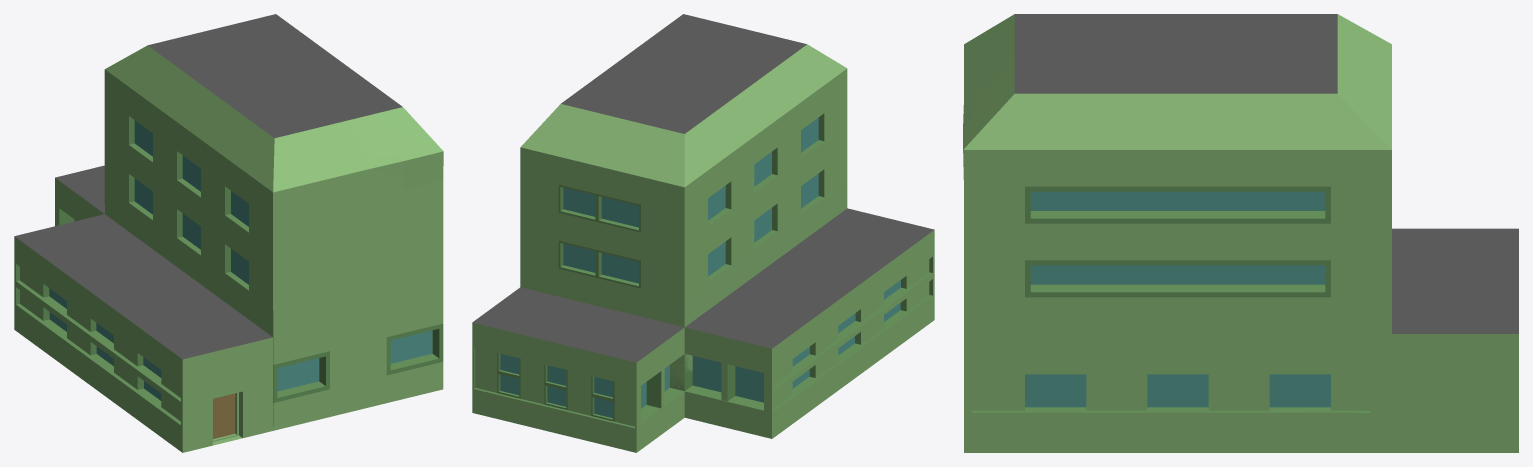
The model's file is edificio_04.fbx.
3 renders of one model, left to right at view 1: azimuth 30°, elevation 25°; view 2: azimuth 150°, elevation 25°; view 3: azimuth 270°, elevation 25°, orthographic. The views are drawn at different scales.
Visible parts, largest first — view 1: Cube.008; view 2: Cube.008; view 3: Cube.008.
Part boxes in pixels (x1,y1,x2,y2): Cube.008: [14, 14, 443, 452]; Cube.008: [472, 14, 934, 452]; Cube.008: [963, 14, 1518, 452].
Bounding box in the file's own units: 2808 × 2808 × 4079.
